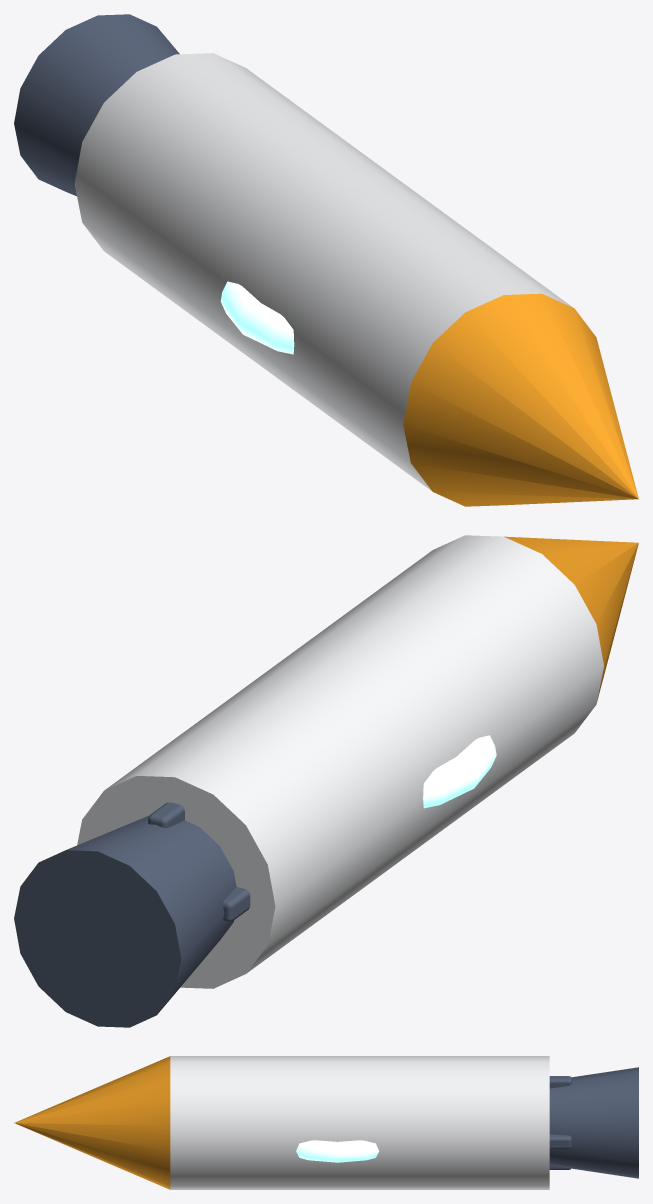
The model's file is hero-shooter-harbour-payload-item-rocket-round-9cb5cd6d__27675.glb.
The picture shows the model from 3 angles, top to bottom: view 1: azimuth 30°, elevation 25°; view 2: azimuth 150°, elevation 25°; view 3: azimuth 270°, elevation 25°; orthographic projection. The views are drawn at different scales.
Parts seen in each view (by area): view 1: item-rocket-round; view 2: item-rocket-round; view 3: item-rocket-round.
Part boxes in pixels (bbox=[...]): item-rocket-round: bbox=[14, 14, 638, 506]; item-rocket-round: bbox=[14, 535, 638, 1027]; item-rocket-round: bbox=[14, 1056, 638, 1189].
Bounding box in the file's own units: 0.144 × 0.12 × 0.56.
